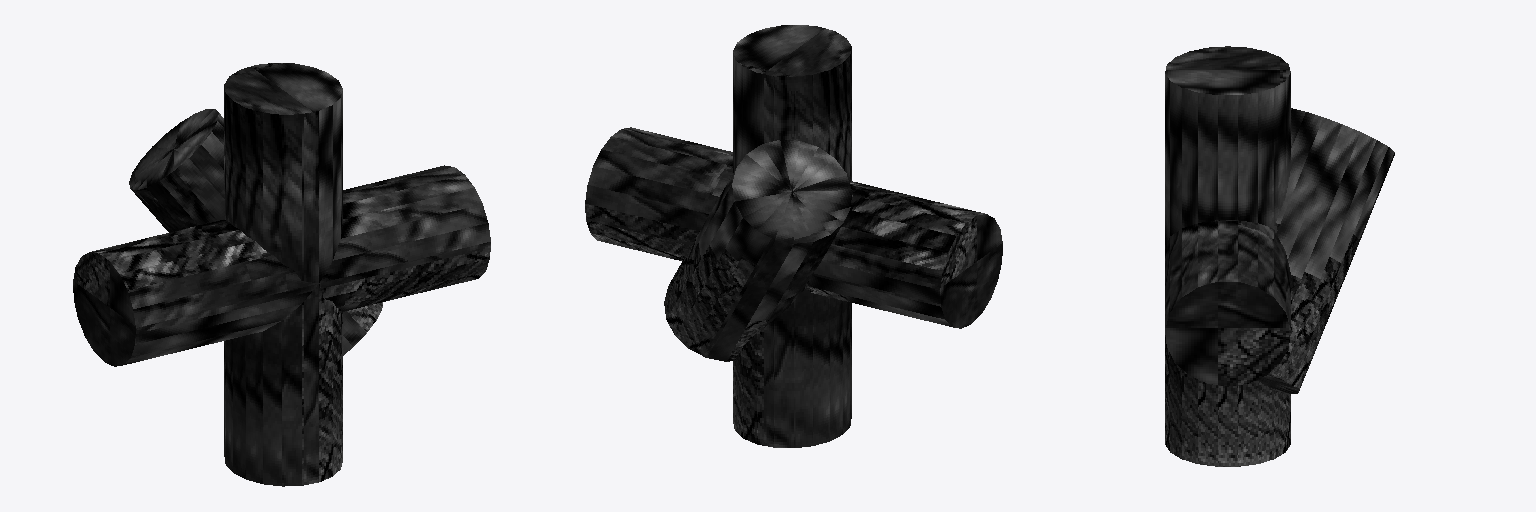
3 views of the same model, side by side, from view 1: azimuth 30°, elevation 25°; view 2: azimuth 150°, elevation 25°; view 3: azimuth 270°, elevation 25° (orthographic).
Visible parts, largest first — view 1: FirePlace; view 2: FirePlace; view 3: FirePlace.
Part boxes in pixels (left/top/right/bottom): FirePlace: left=73, top=63, right=490, bottom=486; FirePlace: left=585, top=25, right=1002, bottom=447; FirePlace: left=1165, top=46, right=1394, bottom=466.
Bounding box in the file's own units: 0.2166 × 0.2166 × 0.1214.
1 materials, 1 textured.